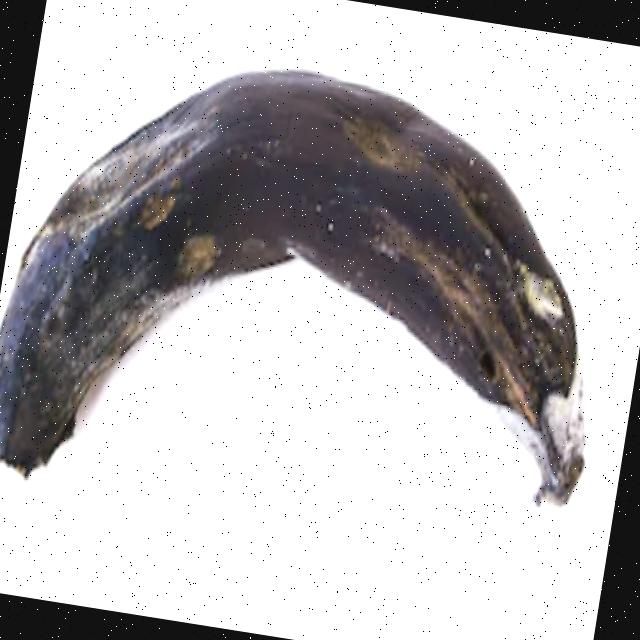Rotten: (0, 2, 640, 606)
